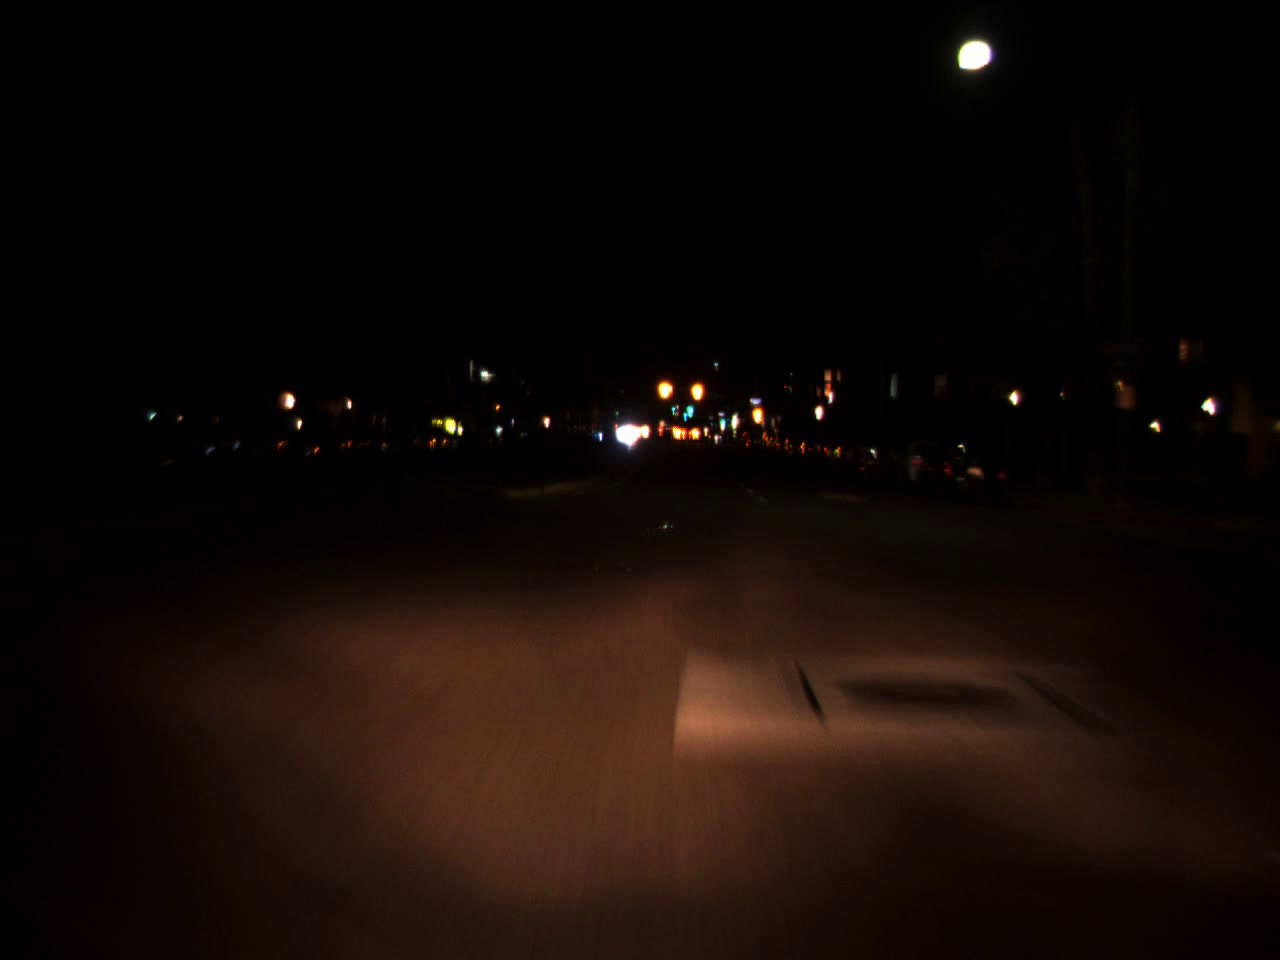go: (685, 396, 694, 419), (681, 402, 688, 423), (719, 414, 726, 426)
warning: (750, 395, 765, 435), (657, 372, 673, 402), (688, 375, 703, 405)
